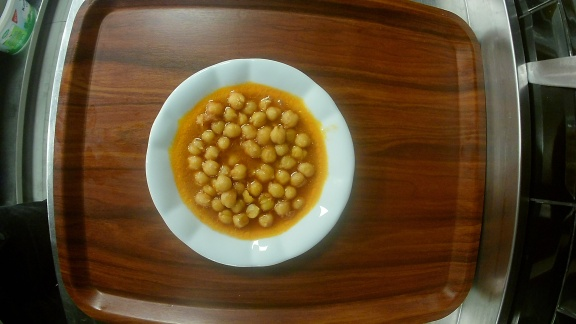sulunohut: (146, 59, 356, 271)
